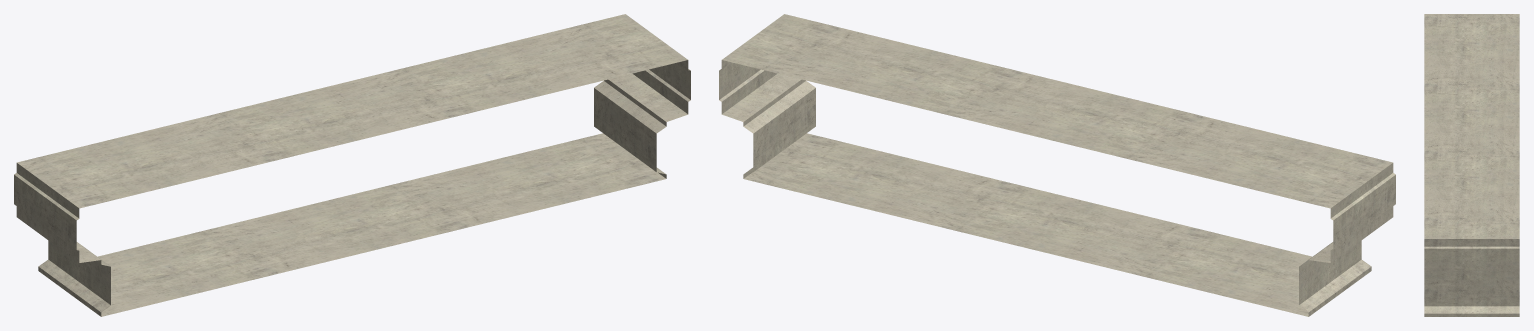
The model's file is BridgeBase9-4L.FBX.
3 views of the same model, side by side, from view 1: azimuth 30°, elevation 25°; view 2: azimuth 150°, elevation 25°; view 3: azimuth 270°, elevation 25° (orthographic). The views are drawn at different scales.
Parts seen in each view (by area): view 1: BridgeBase9-4L; view 2: BridgeBase9-4L; view 3: BridgeBase9-4L.
Part boxes in pixels (box(x1,y1,x2,y2)): BridgeBase9-4L: box(14, 14, 690, 316); BridgeBase9-4L: box(719, 14, 1395, 316); BridgeBase9-4L: box(1424, 14, 1519, 316).
Size of the model in its own units: 28.24 by 5 by 5.
